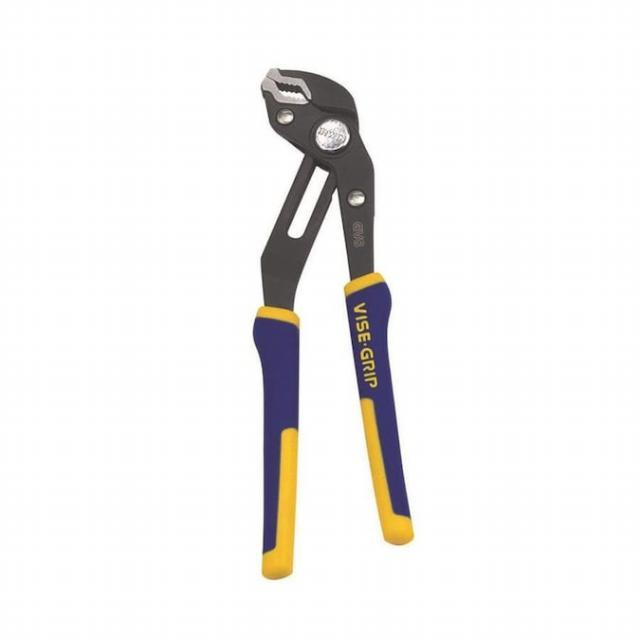pliers: (246, 63, 418, 588)
